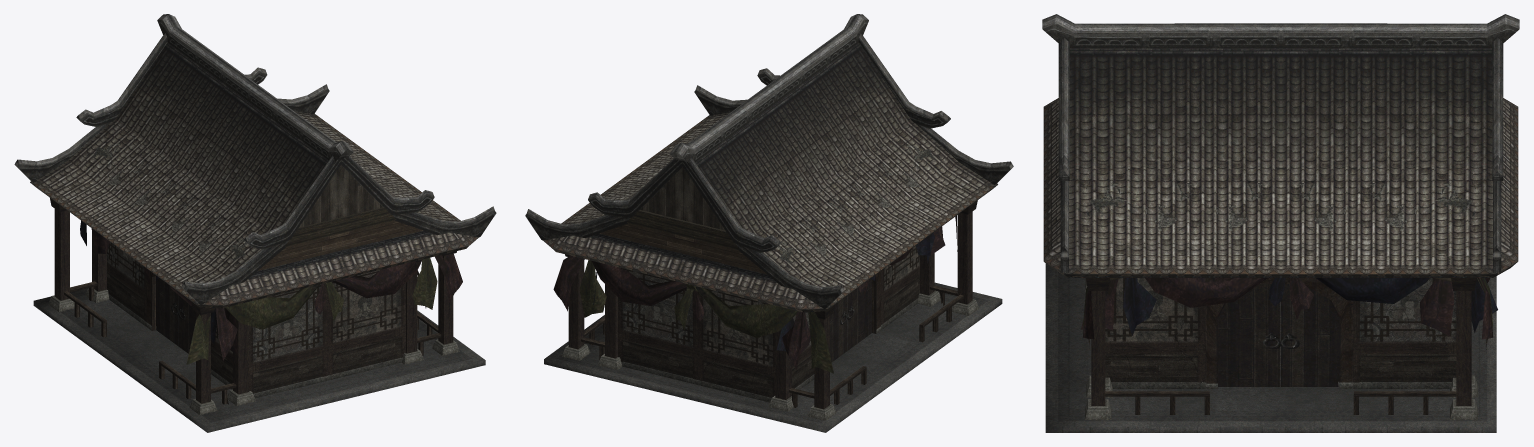
File: ep-032-shamanhouse.glb
3 renders of one model, left to right at view 1: azimuth 30°, elevation 25°; view 2: azimuth 150°, elevation 25°; view 3: azimuth 270°, elevation 25°, orthographic. The views are drawn at different scales.
Visible parts, largest first — view 1: ep-032-shamanhouse; view 2: ep-032-shamanhouse; view 3: ep-032-shamanhouse.
Boxes of the visible parts, x1,y1,x2,y2 form: ep-032-shamanhouse: (14, 14, 496, 432); ep-032-shamanhouse: (525, 14, 1013, 432); ep-032-shamanhouse: (1042, 14, 1519, 432).
Bounding box in the file's own units: 9.89 × 7.73 × 10.11.
Materials: 3 (3 with a texture image).
